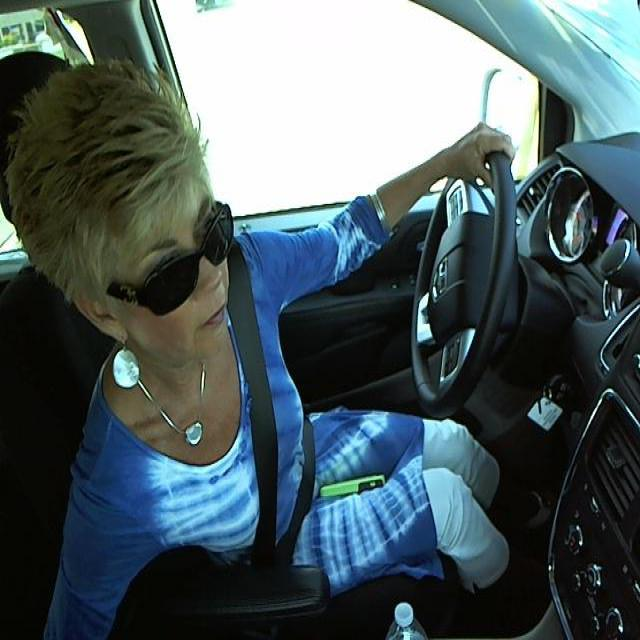seatbelt: (228, 317, 316, 563)
